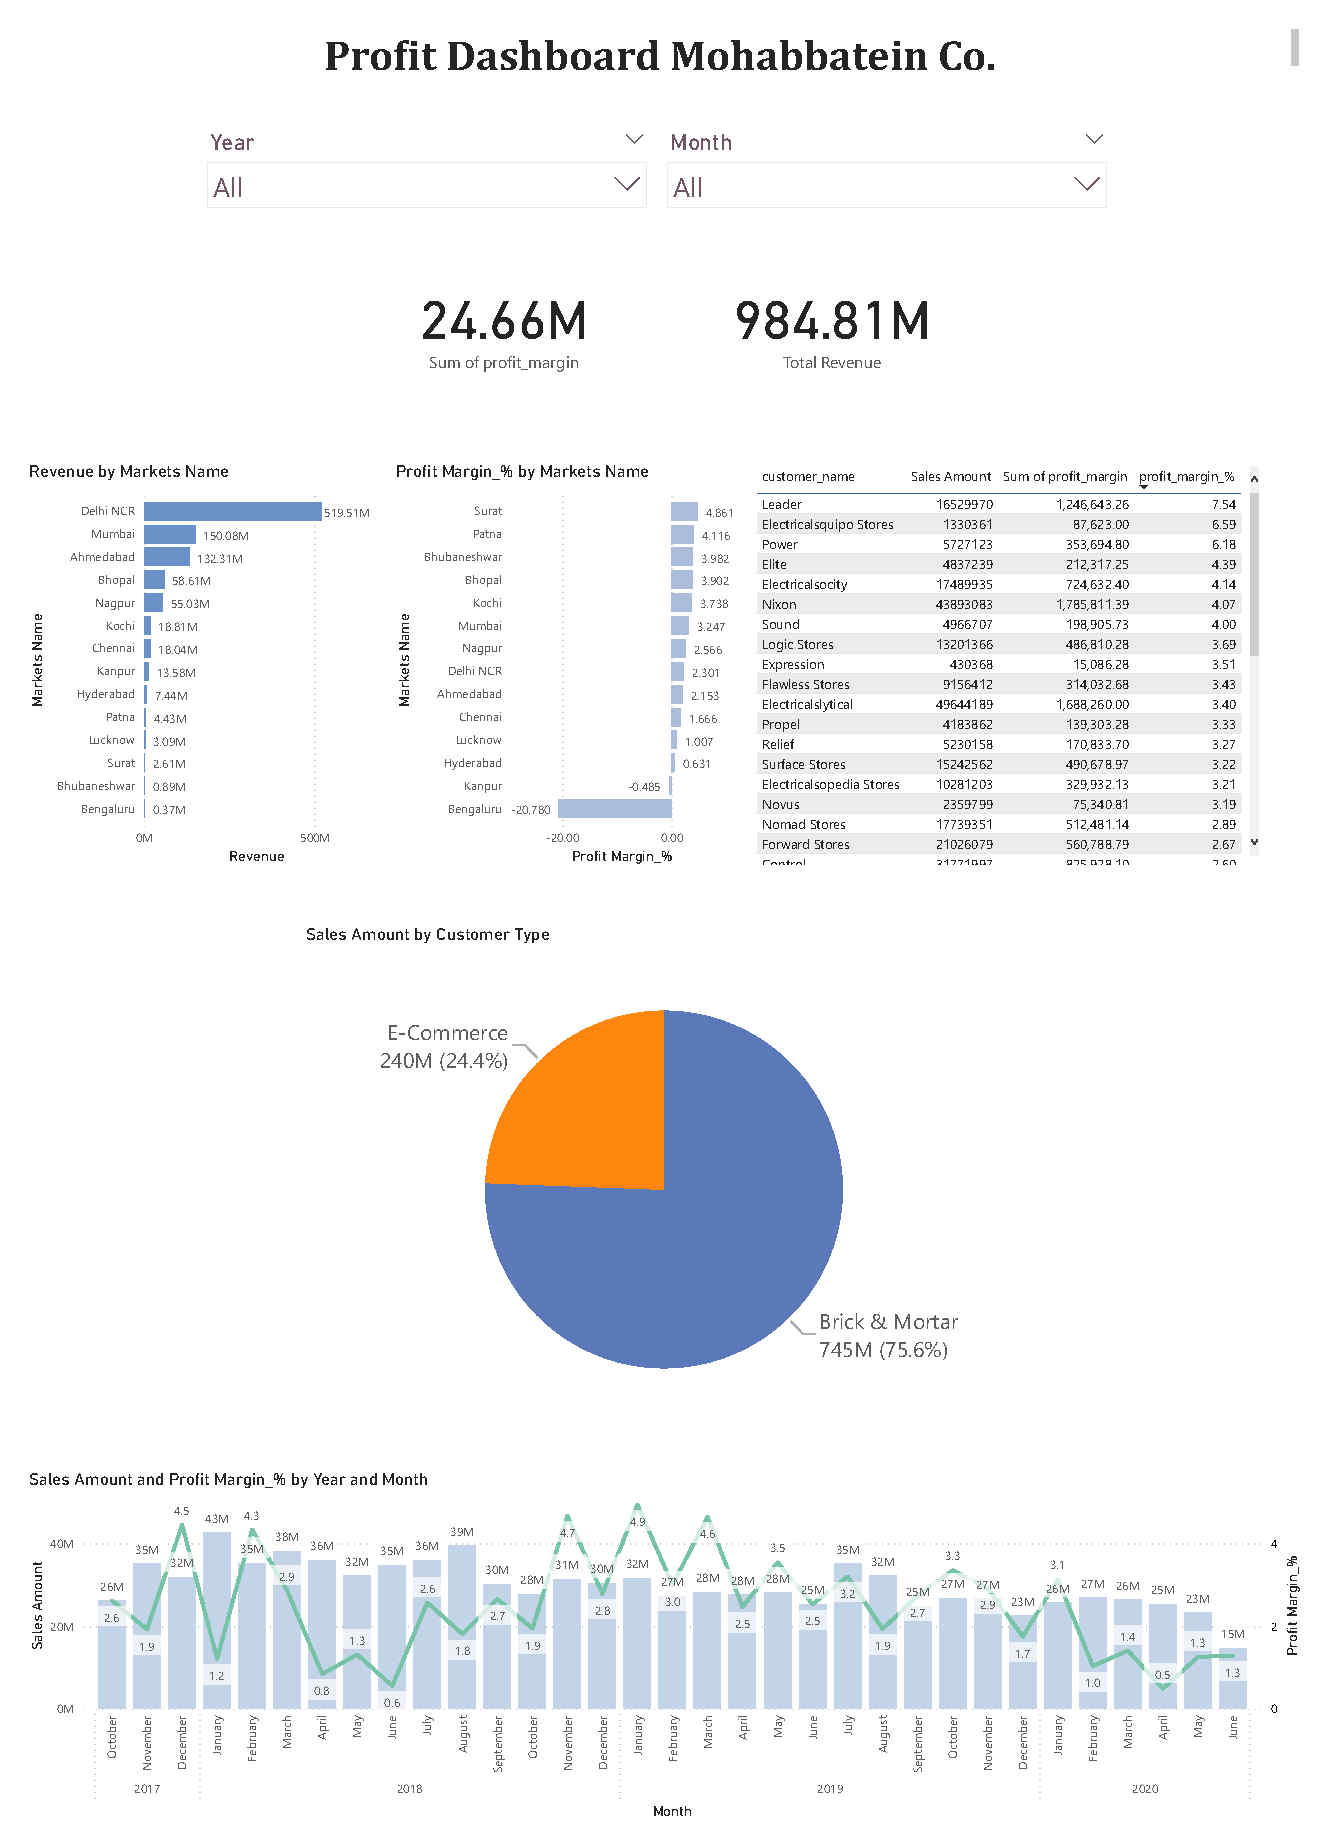

This screenshot's page, from the dashboard's own definition file:
{"tool":"powerbi","page":{"name":"Profit","canvas":[1280,1800],"ordinal":1},"visuals":[{"type":"card","fields":{"Values":["Sum(sales transactions.profit_margin)"]},"box":[326.7,208,306.7,183.3],"z":0},{"type":"card","fields":{"Values":["Sum(sales transactions.sales_amount)"]},"box":[633.3,208,350,183.3],"z":1000},{"type":"clusteredBarChart","fields":{"Category":["sales markets.markets_name"],"Y":["Sum(sales transactions.sales_amount)"]},"box":[0,436.7,366.7,408.3],"z":2000},{"type":"clusteredBarChart","fields":{"Category":["sales markets.markets_name"],"Y":["sales transactions.profit_margin_%"]},"box":[366.7,436.7,360,408.3],"z":3000},{"type":"slicer","fields":{"Values":["sales date.cy_date.Variation.Date Hierarchy.Year"]},"box":[173.3,100,460,88.3],"z":4000},{"type":"slicer","fields":{"Values":["sales date.cy_date.Variation.Date Hierarchy.Month"]},"box":[633.3,100,460,88.3],"z":5000},{"type":"textbox","box":[0,0,1280,53.3],"z":6000},{"type":"lineStackedColumnComboChart","fields":{"Y":["Sum(sales transactions.convert_amount)"],"Category":["sales date.cy_date.Variation.Date Hierarchy.Year","sales date.cy_date.Variation.Date Hierarchy.Month"],"Y2":["sales transactions.profit_margin_%"]},"box":[0,1445,1280,355],"z":7000},{"type":"tableEx","fields":{"Values":["sales customers.customer_name","Sum(sales transactions.convert_amount)","Sum(sales transactions.profit_margin)","sales transactions.profit_margin_%"]},"box":[726.7,436.7,513.3,408.3],"z":8000},{"type":"pieChart","fields":{"Category":["sales customers.customer_type"],"Y":["Sum(sales transactions.convert_amount)"]},"box":[276.7,900,726.7,511.7],"z":8001}]}

Visuals, with their boxes in screenshot pixels (x1, y1, x2, y2), scaled from the page's 1280x1800 canvas onto the 1328x1848 screenshot:
card - Sum(sales transactions.profit_margin): 339/214/657/402
card - Sum(sales transactions.sales_amount): 657/214/1020/402
clusteredBarChart - sales markets.markets_name x Sum(sales transactions.sales_amount): 0/448/380/868
clusteredBarChart - sales markets.markets_name x sales transactions.profit_margin_%: 380/448/754/868
slicer - sales date.cy_date.Variation.Date Hierarchy.Year: 180/103/657/193
slicer - sales date.cy_date.Variation.Date Hierarchy.Month: 657/103/1134/193
textbox: 0/0/1327/55
lineStackedColumnComboChart - Sum(sales transactions.convert_amount) x sales date.cy_date.Variation.Date Hierarchy.Year: 0/1484/1327/1847
tableEx - sales customers.customer_name x Sum(sales transactions.convert_amount): 754/448/1286/868
pieChart - sales customers.customer_type x Sum(sales transactions.convert_amount): 287/924/1041/1449
